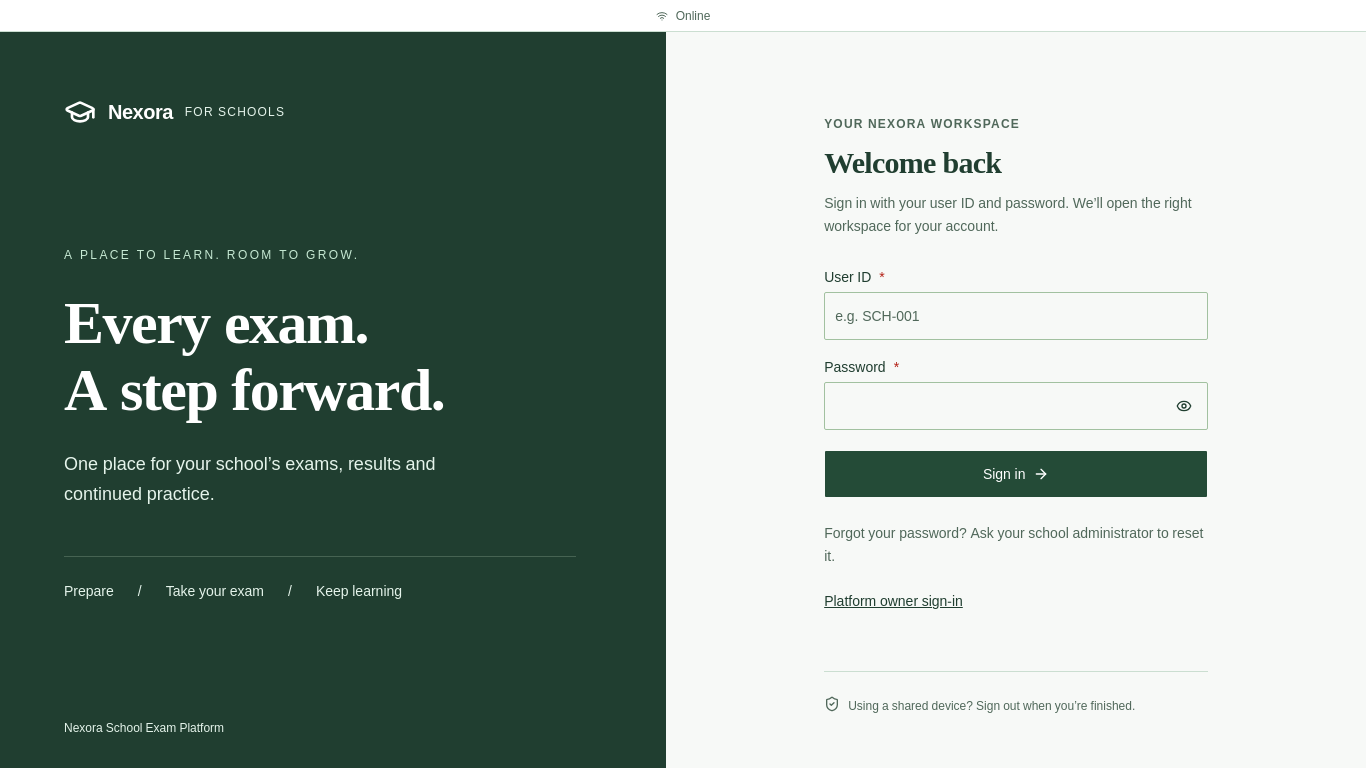
authentication and routing › signs in DEMO-TEACHER and opens its role workspace
Type "DEMO-TEACHER" into the field labelled "User ID" at coordinates (1016, 316), box [824,292,1208,340]
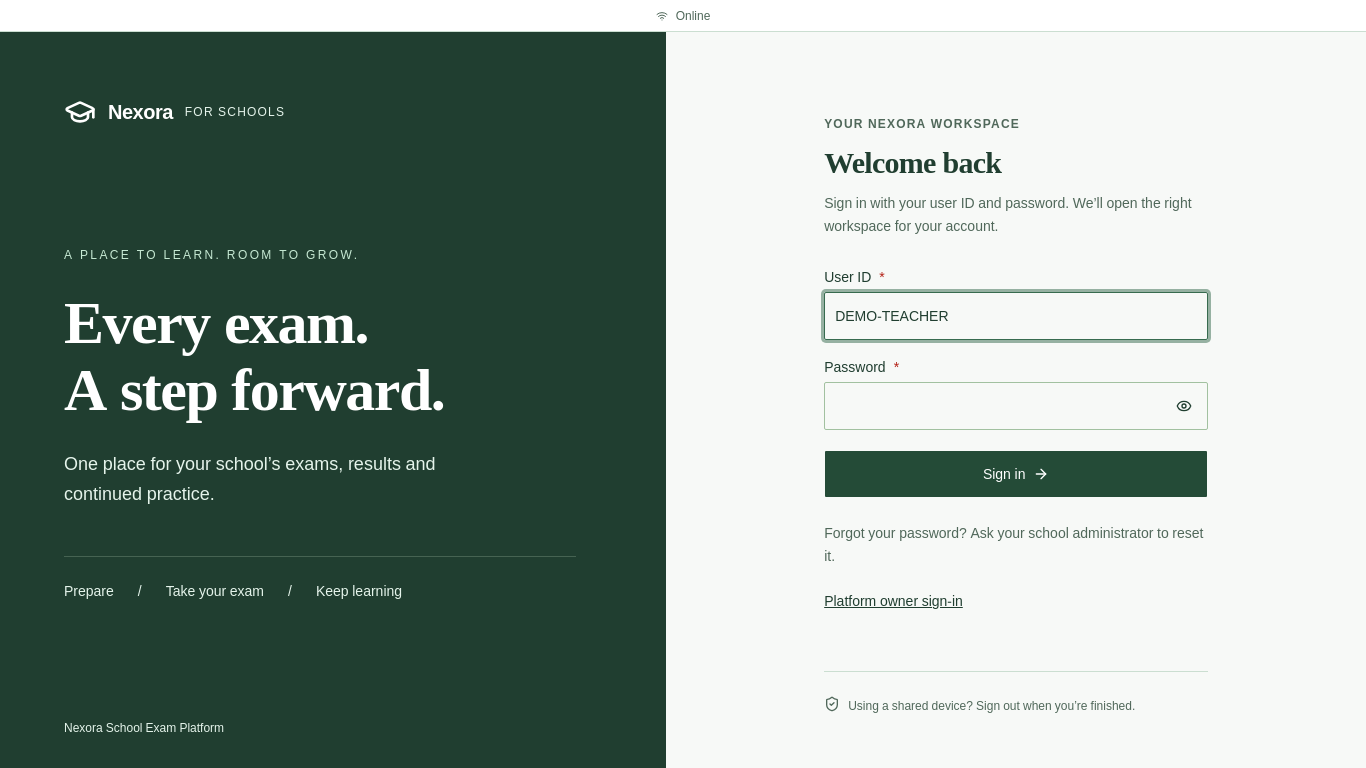
Type "NexoraDemo!" into the password field labelled "Password" at coordinates (1016, 406), box [824,382,1208,430]
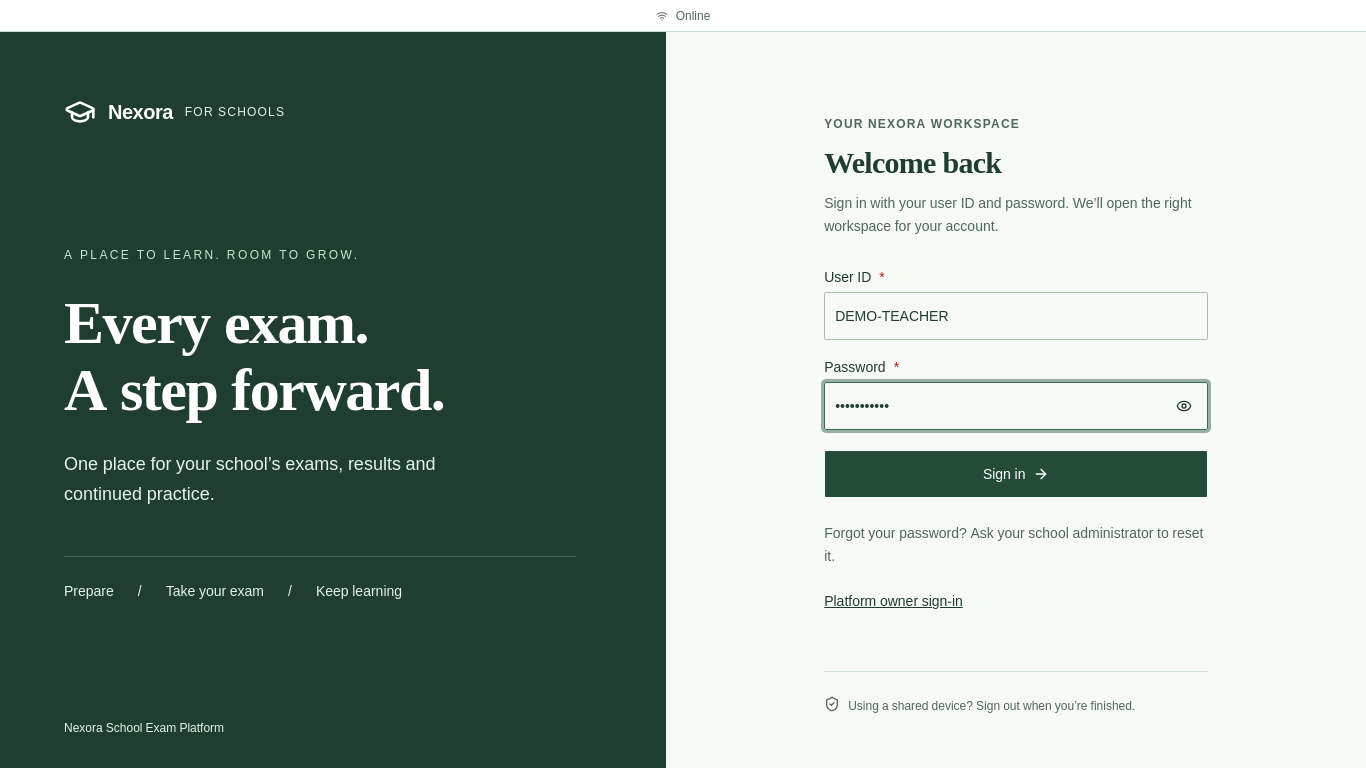
Click the button "Sign in" at coordinates (1016, 474), box [824,450,1208,498]
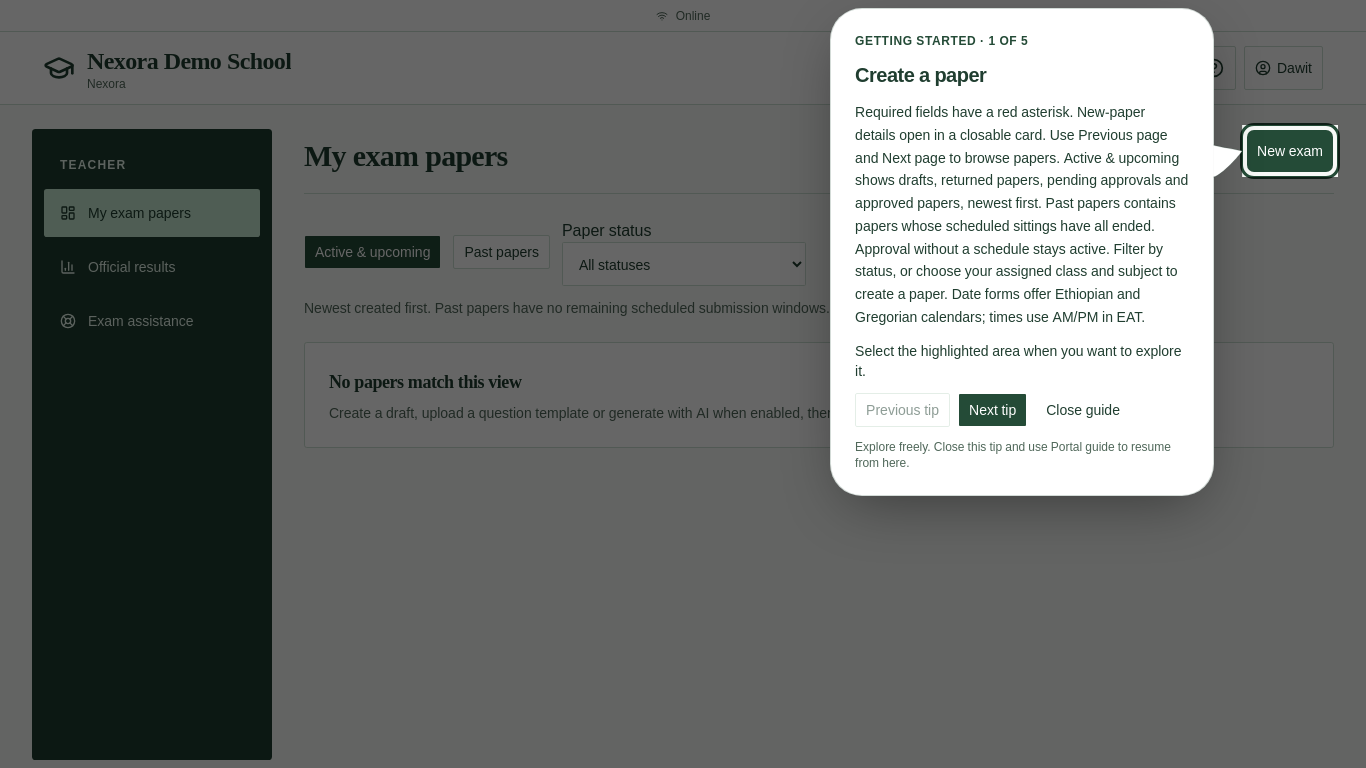
Check: the button with aria-label "Open account menu" is shown, box [1244,46,1323,90]
